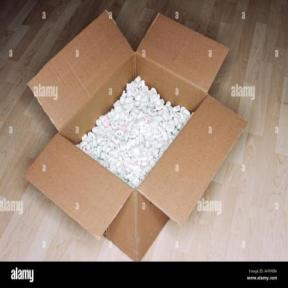box: (23, 9, 248, 263)
